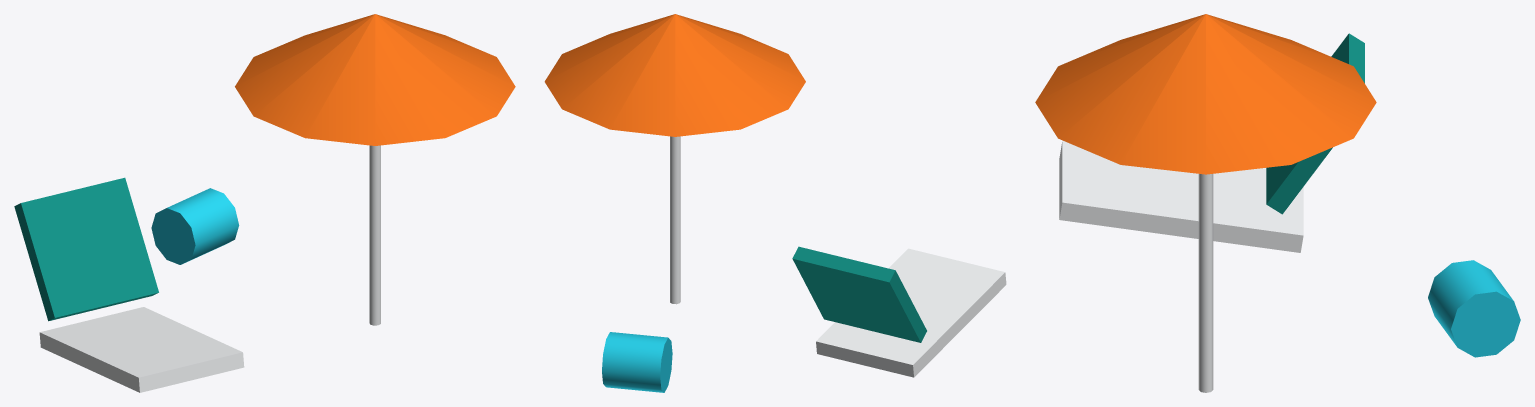
Rendered from beach.glb.
The picture shows the model from 3 angles, left to right: view 1: azimuth 30°, elevation 25°; view 2: azimuth 150°, elevation 25°; view 3: azimuth 270°, elevation 25°; orthographic projection. The views are drawn at different scales.
Size of what is drawn, in the model's own units: 2.4 by 1.7 by 1.99.
